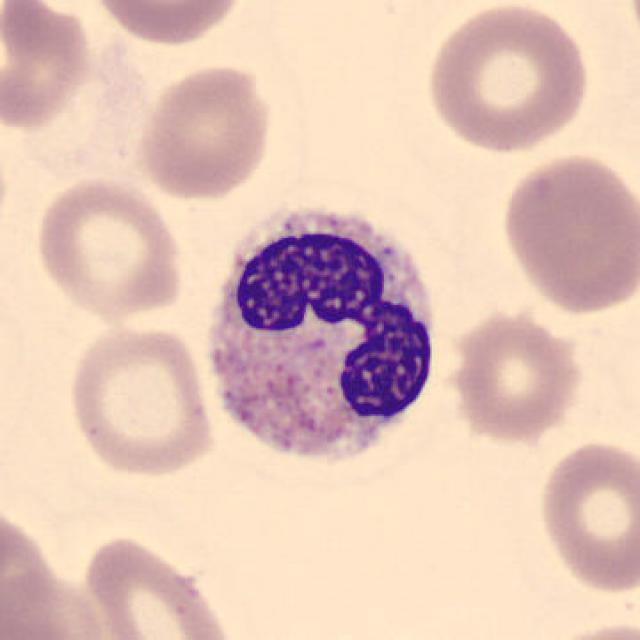Neutrophil: (190, 194, 450, 485)
RBC: (420, 0, 594, 157), (62, 321, 219, 479), (27, 172, 188, 322), (496, 148, 638, 317), (134, 60, 276, 203), (444, 305, 586, 446), (76, 530, 241, 640), (532, 433, 638, 598), (0, 0, 98, 134), (0, 490, 60, 640), (0, 562, 110, 640), (85, 0, 249, 48), (537, 619, 638, 640)
